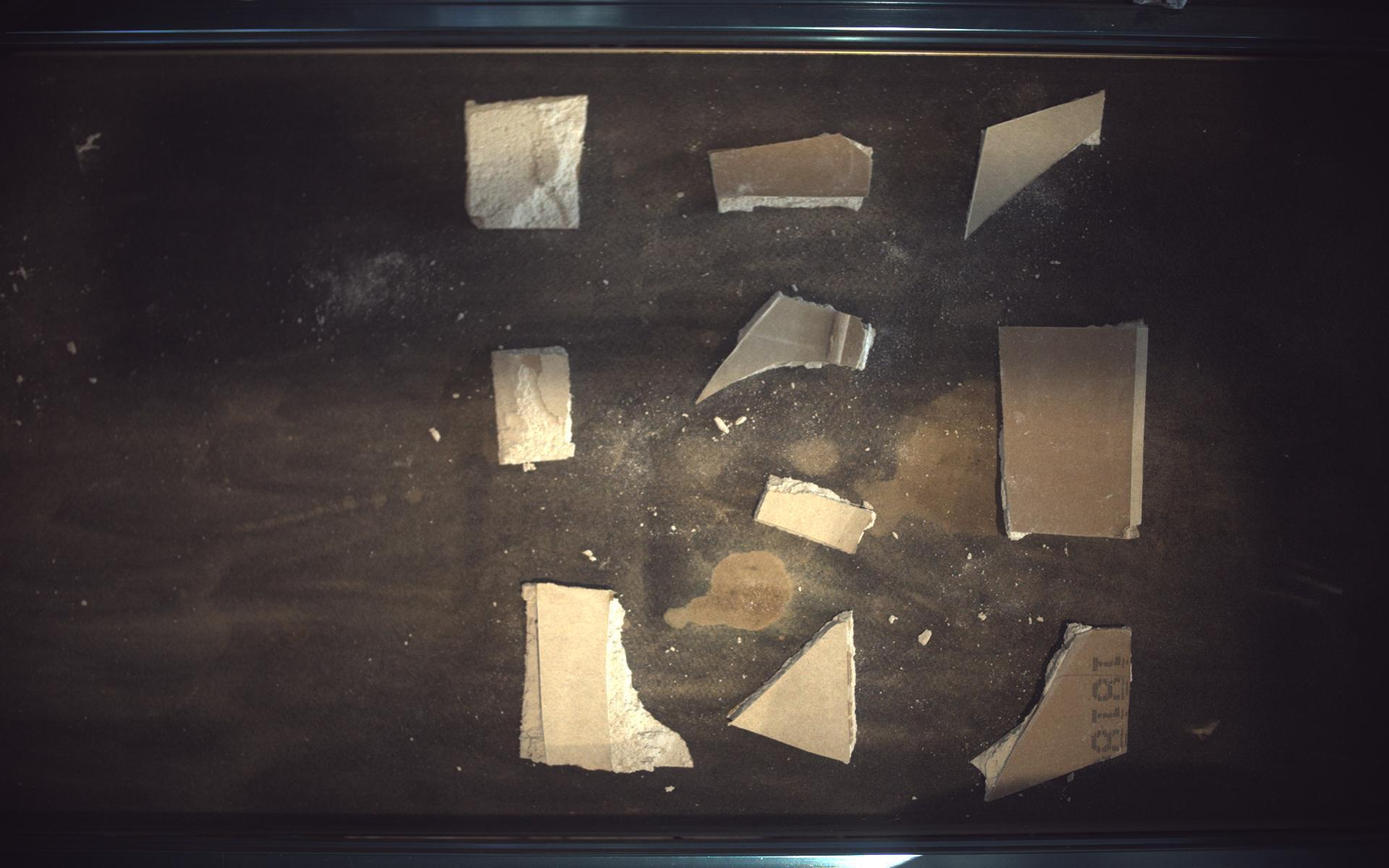gypsum_board: (520, 583, 694, 774), (1002, 321, 1151, 540), (974, 624, 1134, 802), (967, 89, 1108, 237), (698, 291, 876, 404), (730, 611, 859, 764), (465, 95, 588, 229), (710, 132, 874, 212), (492, 346, 576, 465), (756, 475, 878, 554)
